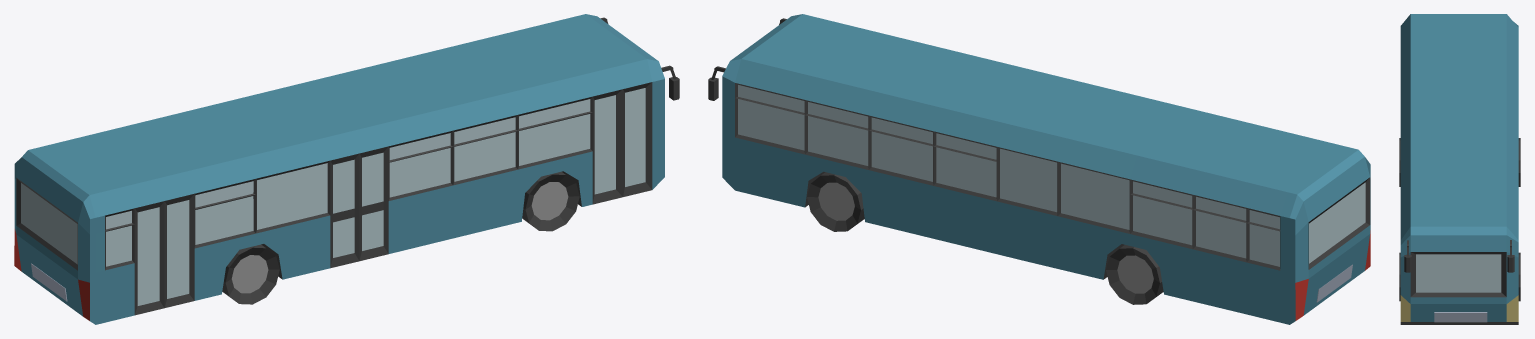
File: Bus.fbx
3 renders of one model, left to right at view 1: azimuth 30°, elevation 25°; view 2: azimuth 150°, elevation 25°; view 3: azimuth 270°, elevation 25°, orthographic. The views are drawn at different scales.
Visible parts, largest first — view 1: Cube.001; view 2: Cube.001; view 3: Cube.001.
Part boxes in pixels (bbox=[...]): Cube.001: bbox=[14, 14, 679, 324]; Cube.001: bbox=[708, 14, 1370, 324]; Cube.001: bbox=[1399, 14, 1520, 324].
Size of the model in its own units: 1326 by 301 by 298.
